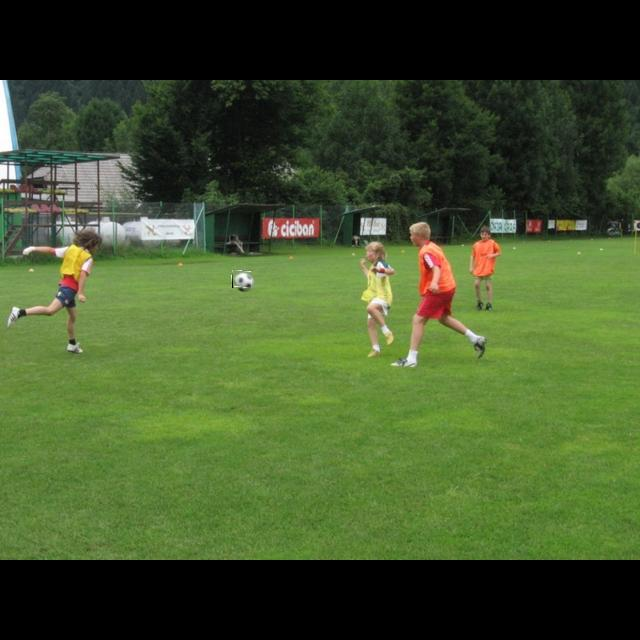Football: (232, 270, 252, 288)
